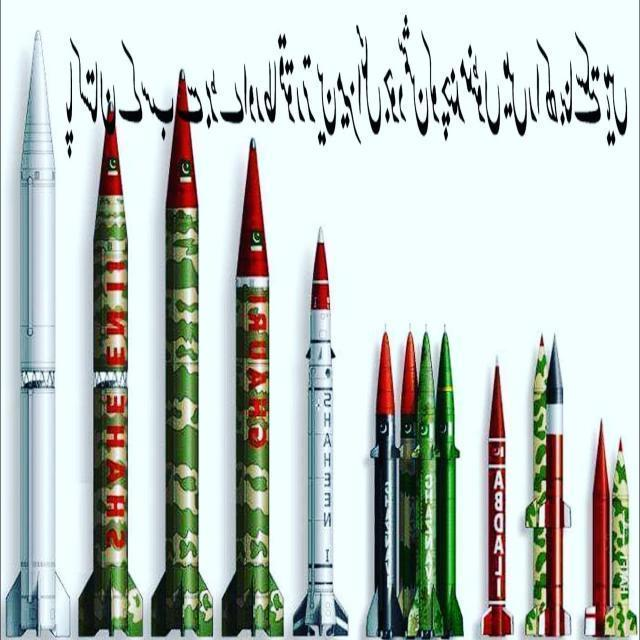Missile: (149, 69, 215, 640)
